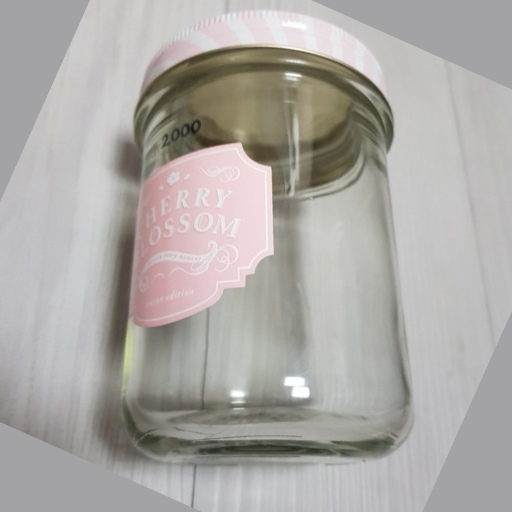Glass_5: (110, 10, 418, 465)
